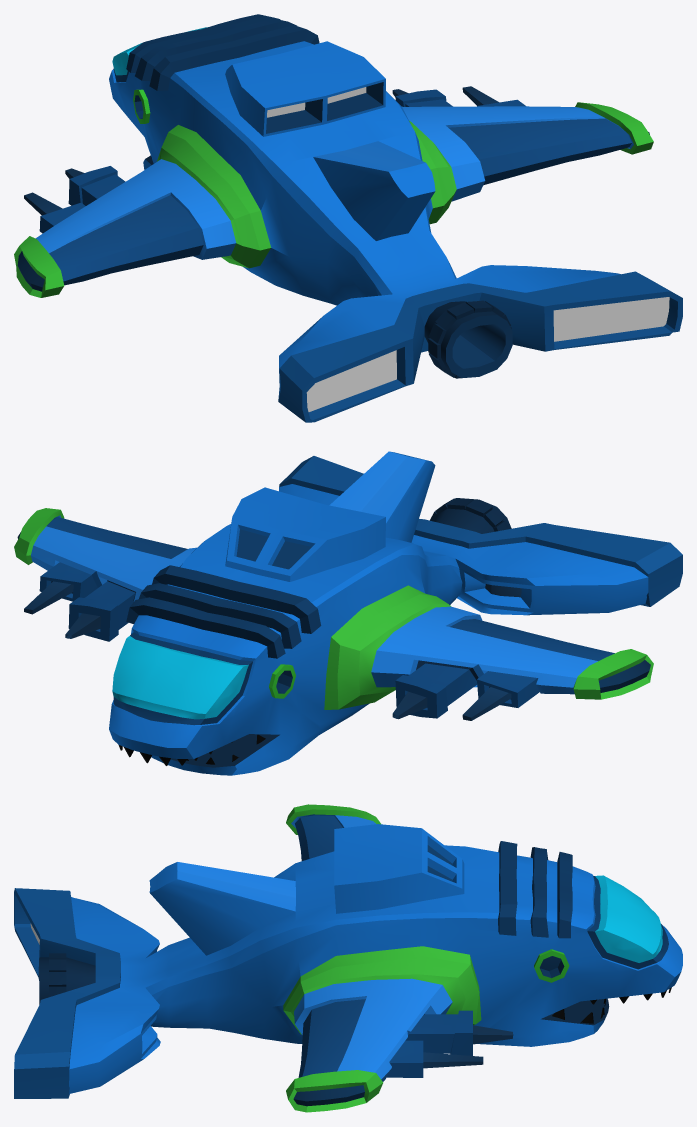
The model's file is Shark.fbx.
3 renders of one model, top to bottom at view 1: azimuth 30°, elevation 25°; view 2: azimuth 150°, elevation 25°; view 3: azimuth 270°, elevation 25°, orthographic. The views are drawn at different scales.
Parts seen in each view (by area): view 1: Shark; view 2: Shark; view 3: Shark.
Part boxes in pixels (<box>): Shark: <box>14,14,682,422</box>; Shark: <box>14,451,682,775</box>; Shark: <box>14,804,682,1112</box>.
Size of the model in its own units: 2050 by 574 by 1999.
3 materials, 1 textured.
